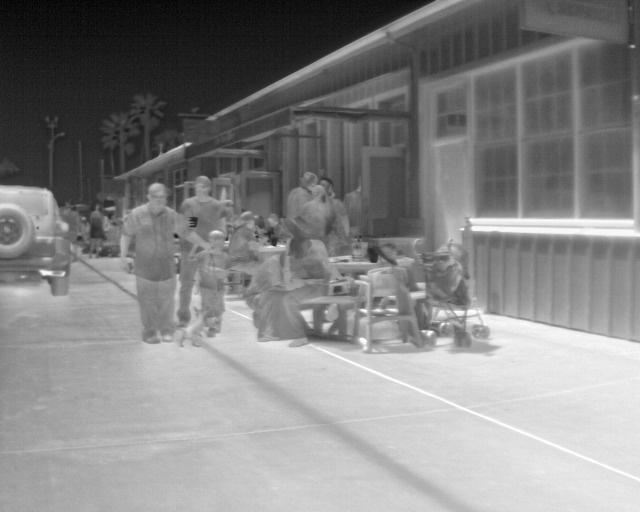bicycle: (0, 181, 75, 296)
empty: (113, 185, 200, 341), (256, 213, 346, 347), (192, 234, 225, 332), (176, 176, 222, 231), (226, 210, 263, 276), (297, 185, 333, 252), (319, 178, 351, 238), (283, 171, 315, 219), (84, 203, 108, 259), (341, 175, 362, 235), (265, 212, 287, 246)
